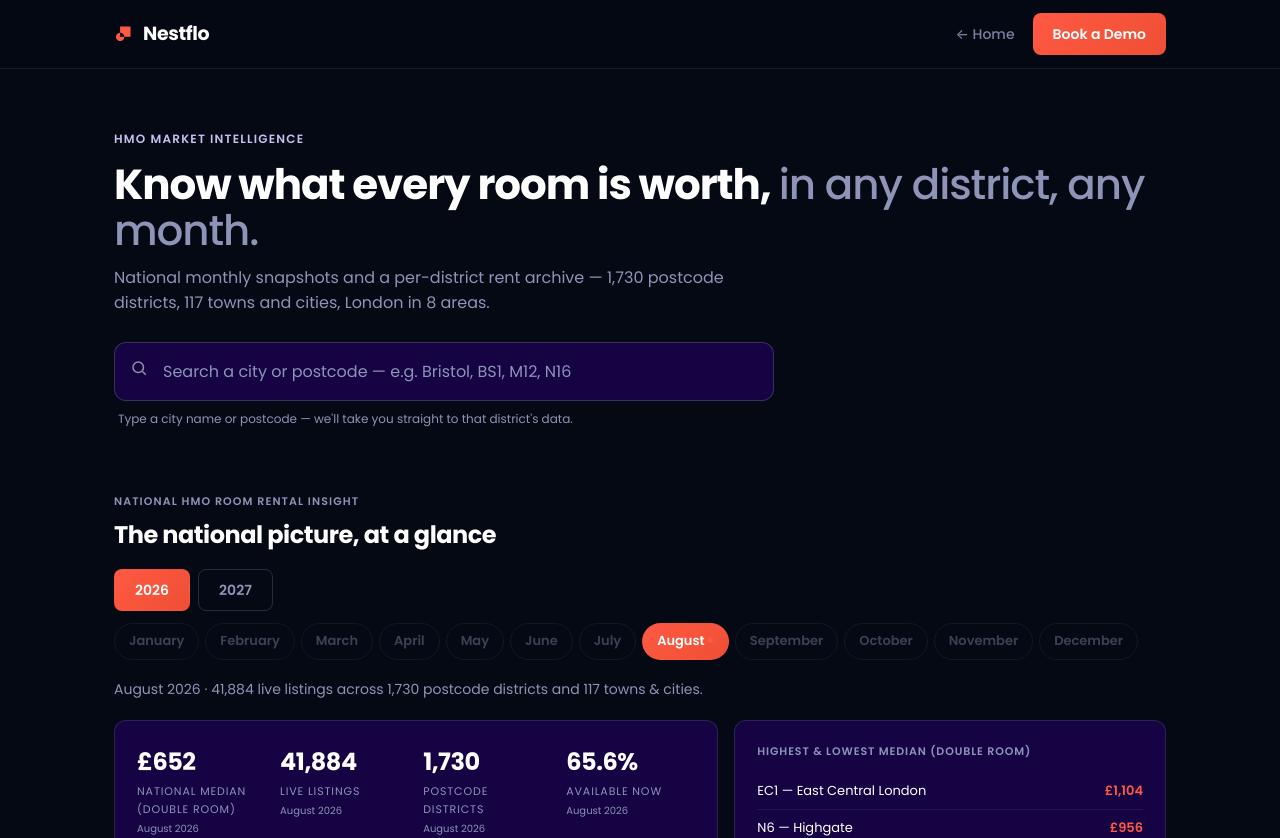
Test: AC-9/AC-10 edition navigator › renders the empty state for a coming-soon month and jumps back to the latest edition
The width and height of the screenshot is (1280, 838).
What coordinates should you click on to do the following:
click the button "2027"
I would click on:
 (236, 590)
Its box is [198, 568, 273, 611].
(page scrolled)
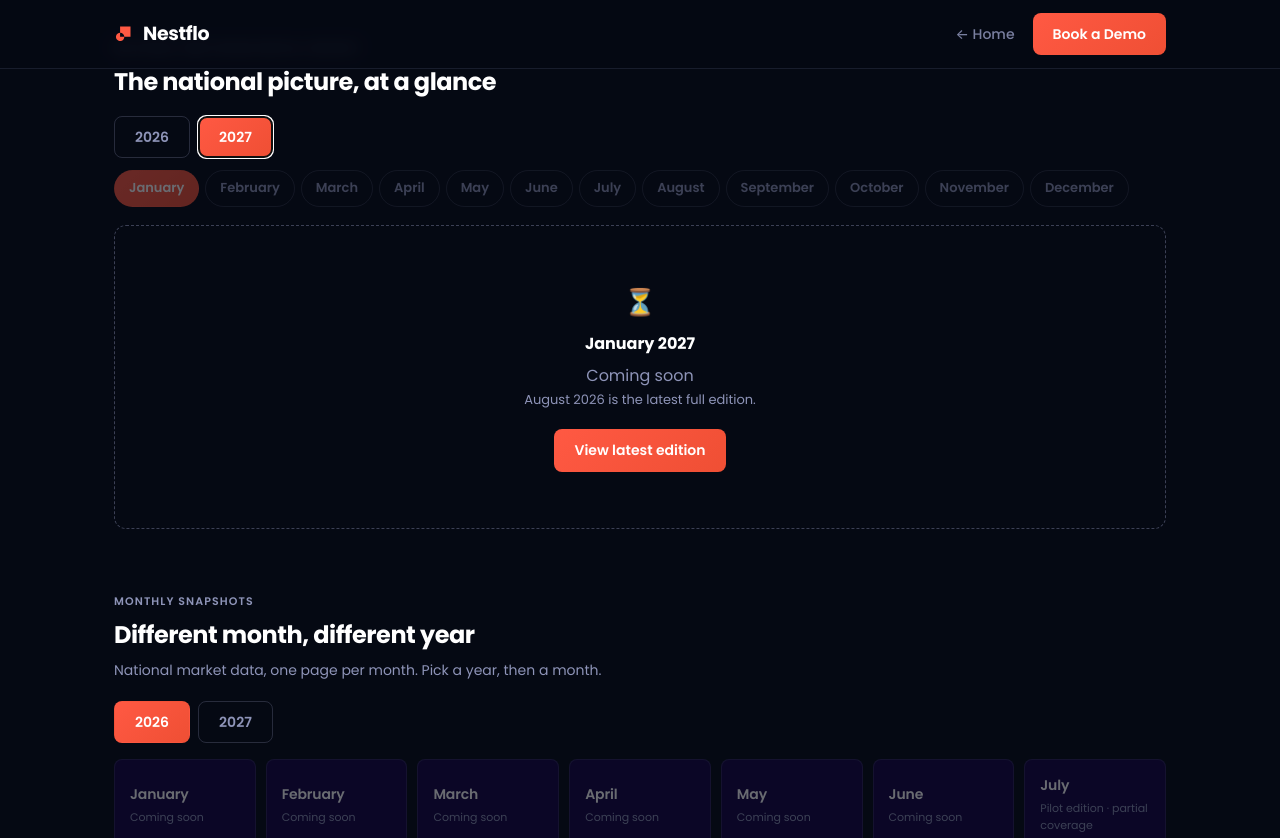
Expected: the element with test id "md-insight-empty" is shown, [114, 225, 1166, 529]
Expected: the text with test id "md-empty-title" reads "January 2027", [585, 332, 695, 355]
Expected: the text with test id "md-empty-note" reads "Coming soon", [586, 364, 694, 387]
What coordinates should you click on to do the following:
click the button "View latest edition"
I would click on:
 (640, 450)
Its box is [554, 429, 726, 472].
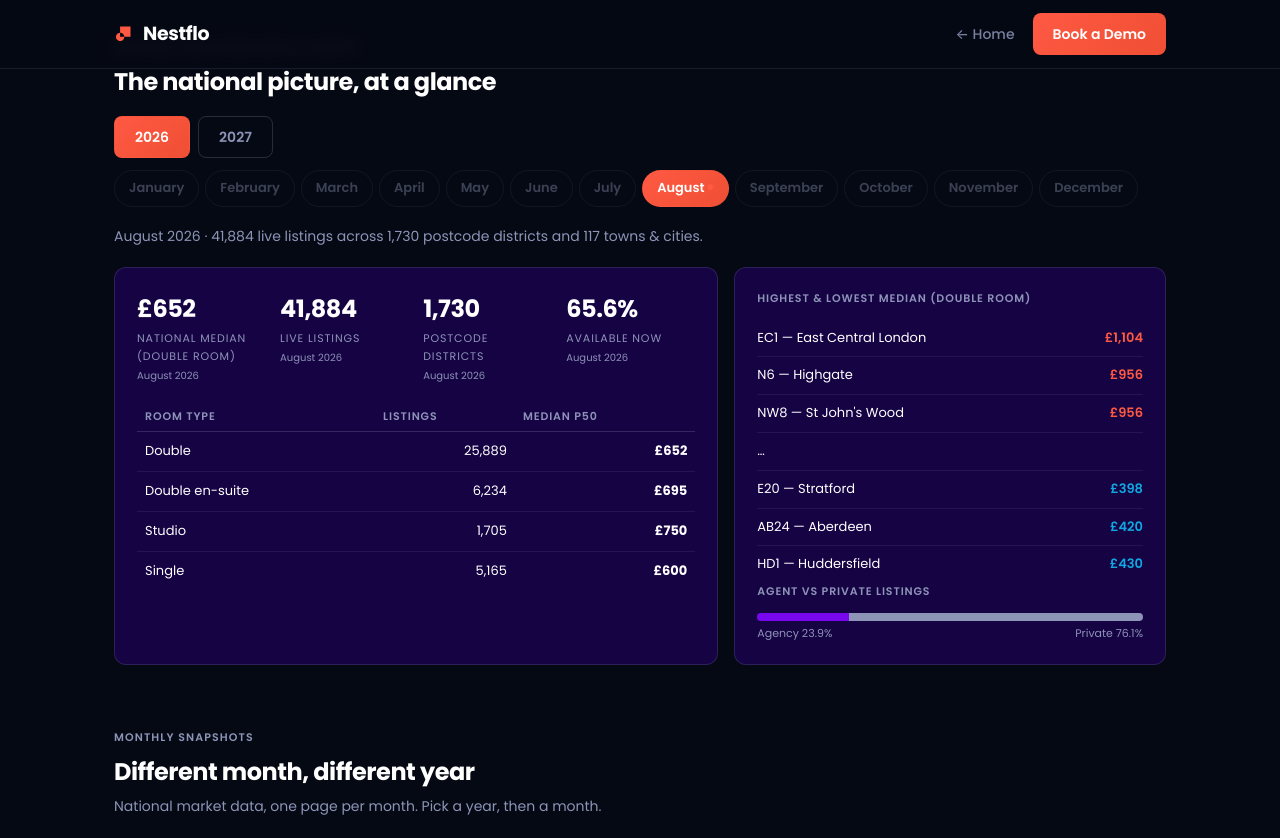
Expected: the element with test id "md-kpi-median" shows "£652", [137, 292, 196, 325]
